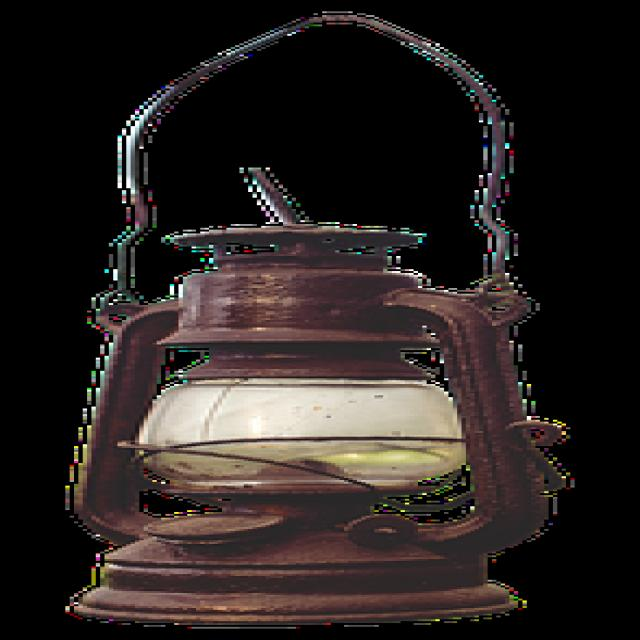corrosion: (77, 16, 573, 627), (148, 380, 461, 485)
